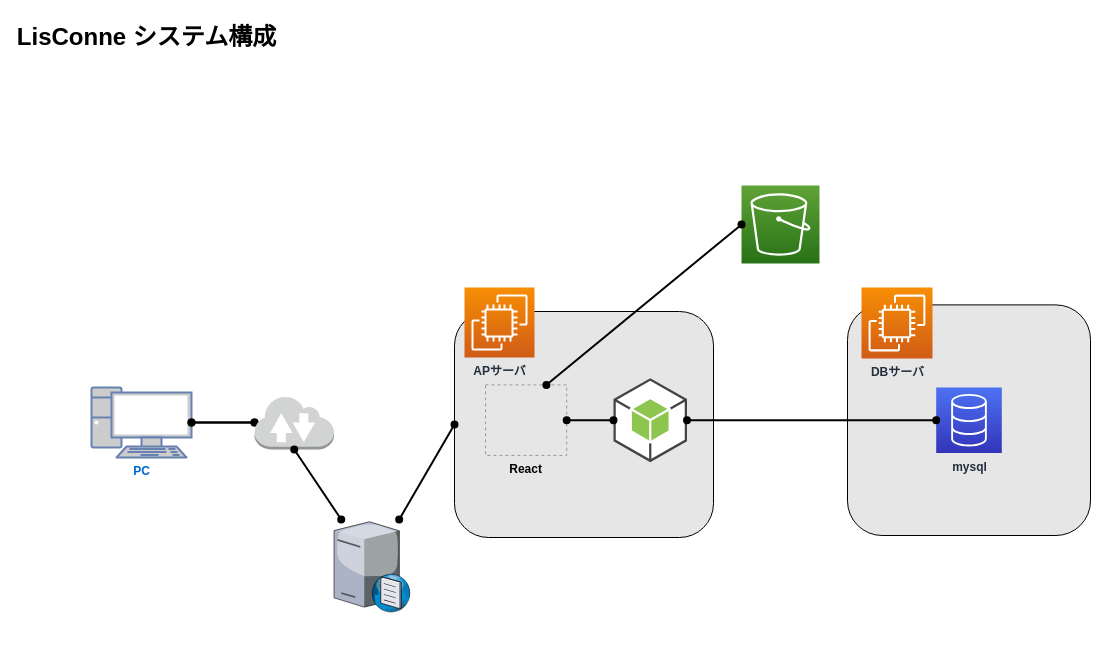
Some shapes in this 1108 by 650 pixel diagram are drawn without their labels. Grey dashed boxes stand in for pictures. The centre of each missing label's shape, as x and y in pixels:
DNS: pixel 372 565
Node.js: pixel 649 419
S3: pixel 780 224
